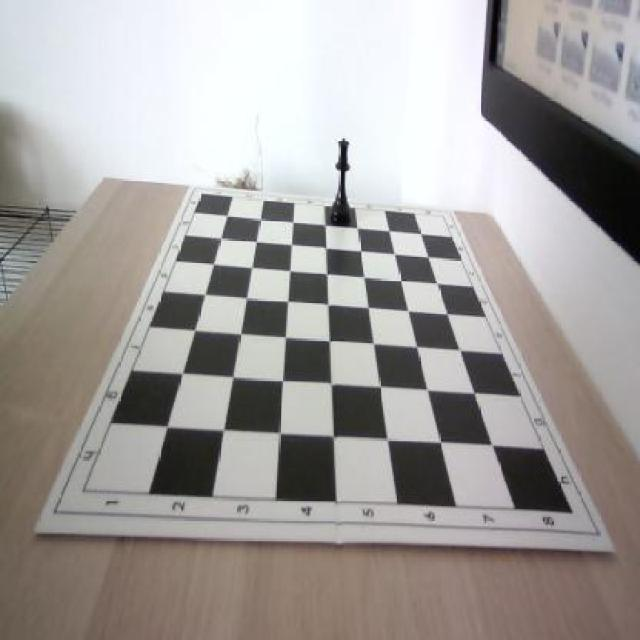black-pawn: (329, 135, 352, 227)
